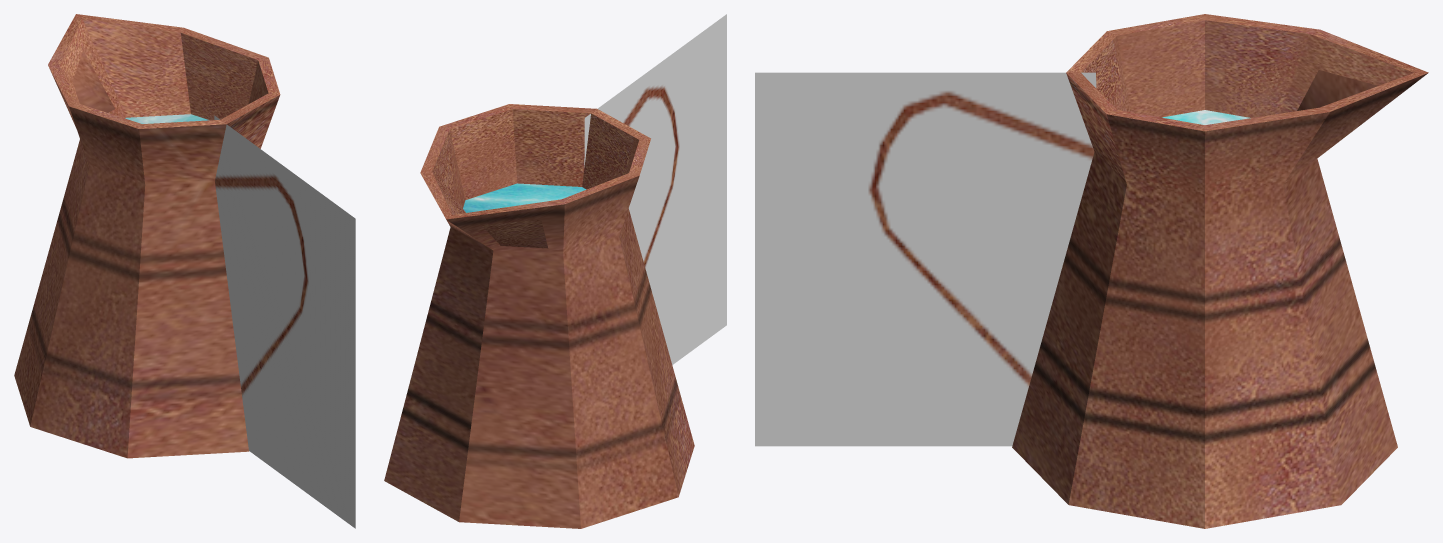
Rendered from Prop_SM_Pitcher.fbx.
3 renders of one model, left to right at view 1: azimuth 30°, elevation 25°; view 2: azimuth 150°, elevation 25°; view 3: azimuth 270°, elevation 25°, orthographic. The views are drawn at different scales.
Visible parts, largest first — view 1: polySurface4; view 2: polySurface4; view 3: polySurface4.
Boxes of the visible parts, x1,y1,x2,y2 form: polySurface4: (14,14,355,528); polySurface4: (384,14,726,528); polySurface4: (755,14,1428,528).
Size of the model in its own units: 0.2685 by 0.2876 by 0.4688.
